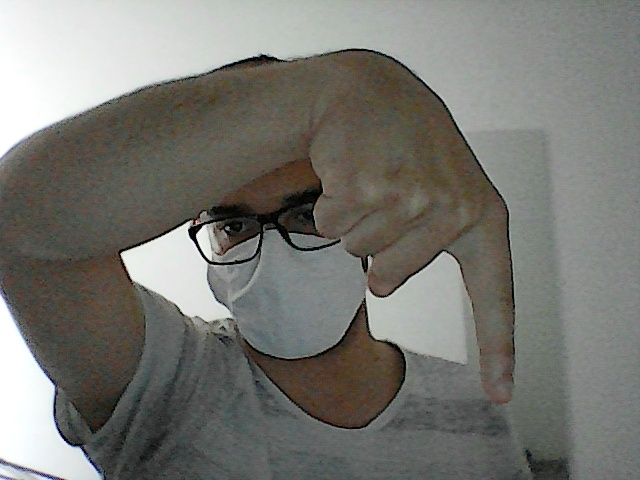down: (303, 39, 524, 412)
